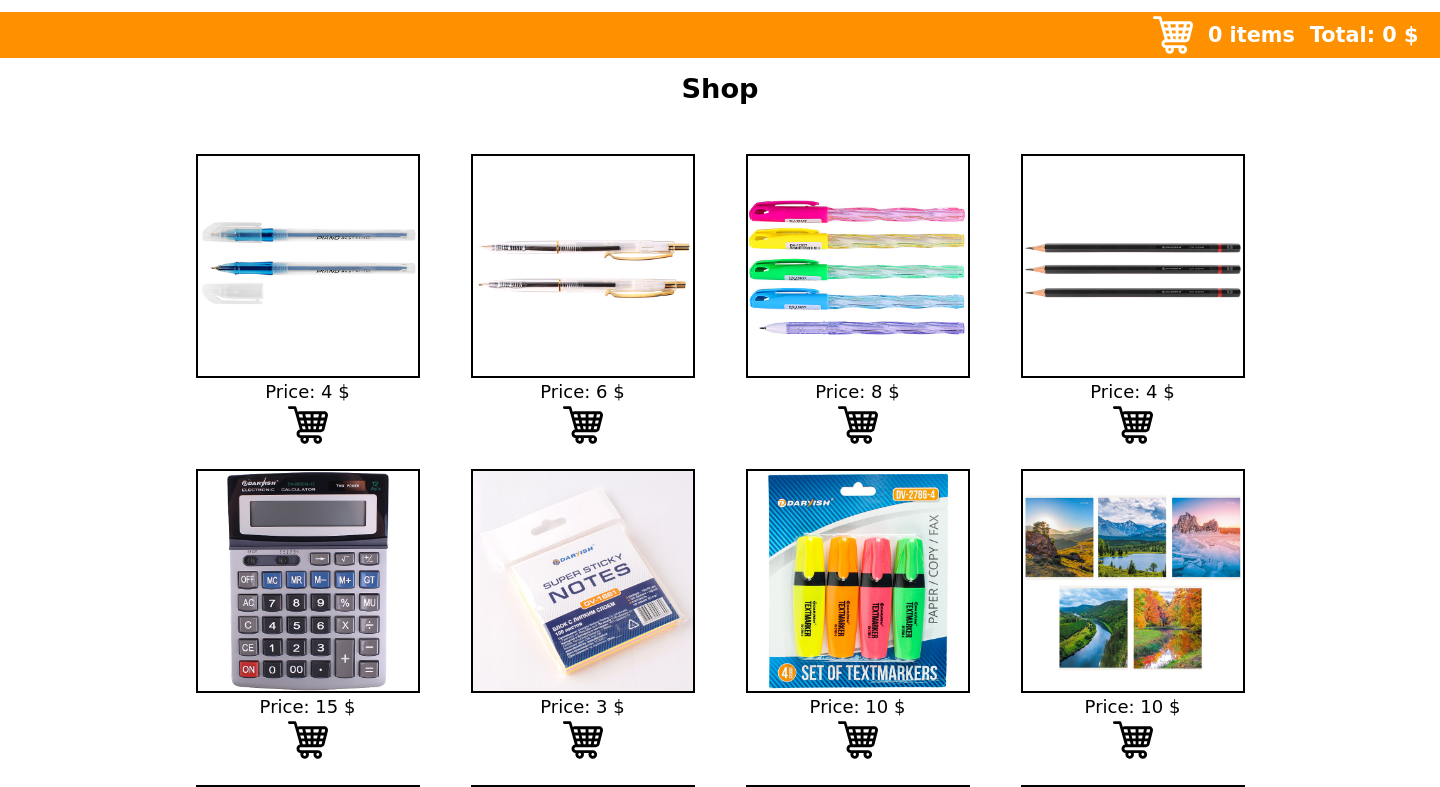
Test: Shop component › plus button works
This screenshot has width=1440, height=787.
What coordinates should you click on to do the following:
click the picture with test id "cart-0"
I would click on:
 (308, 425)
Its box is [288, 405, 328, 445].
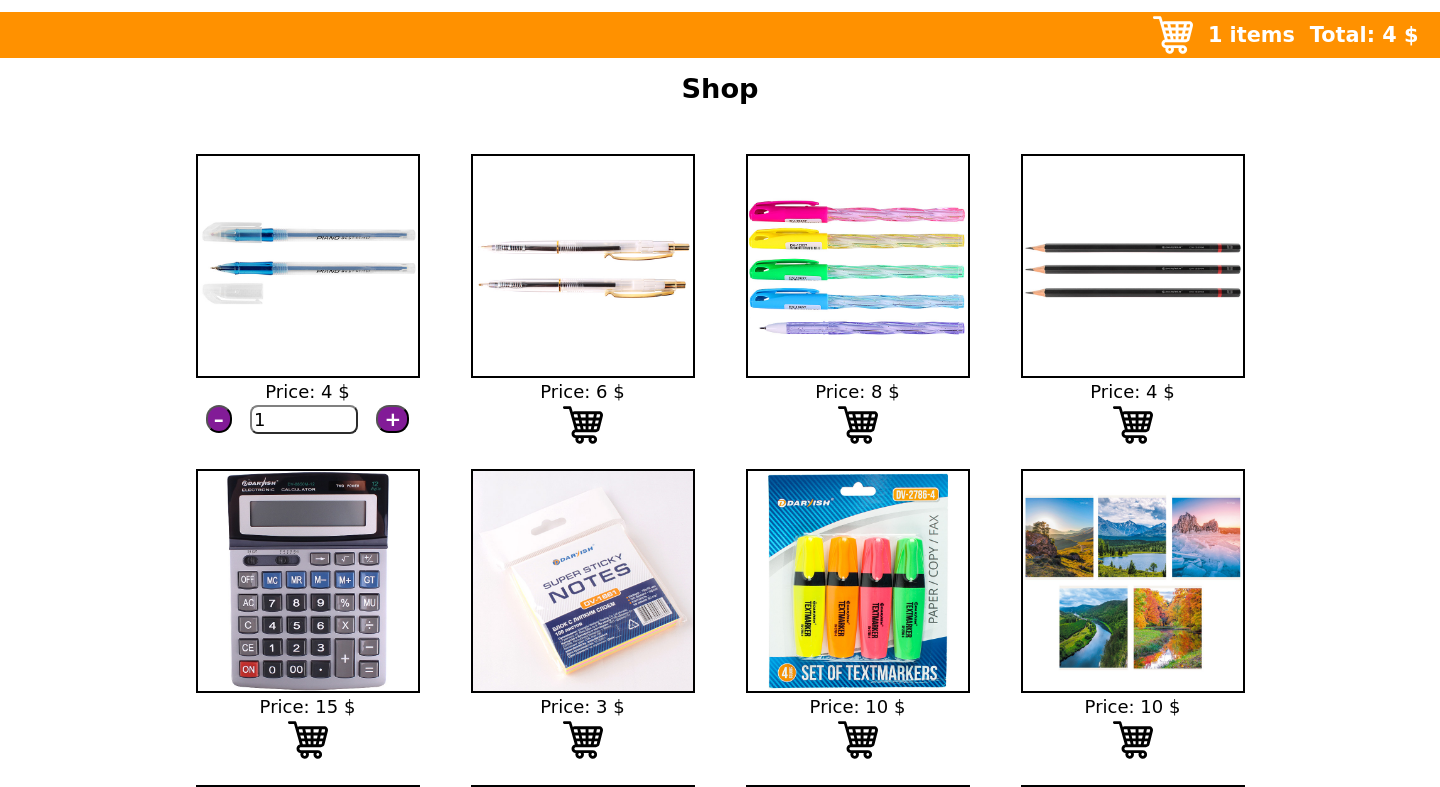
What coordinates should you click on to do the following:
click the button "+"
I would click on:
 (393, 419)
Its box is [376, 405, 409, 433].
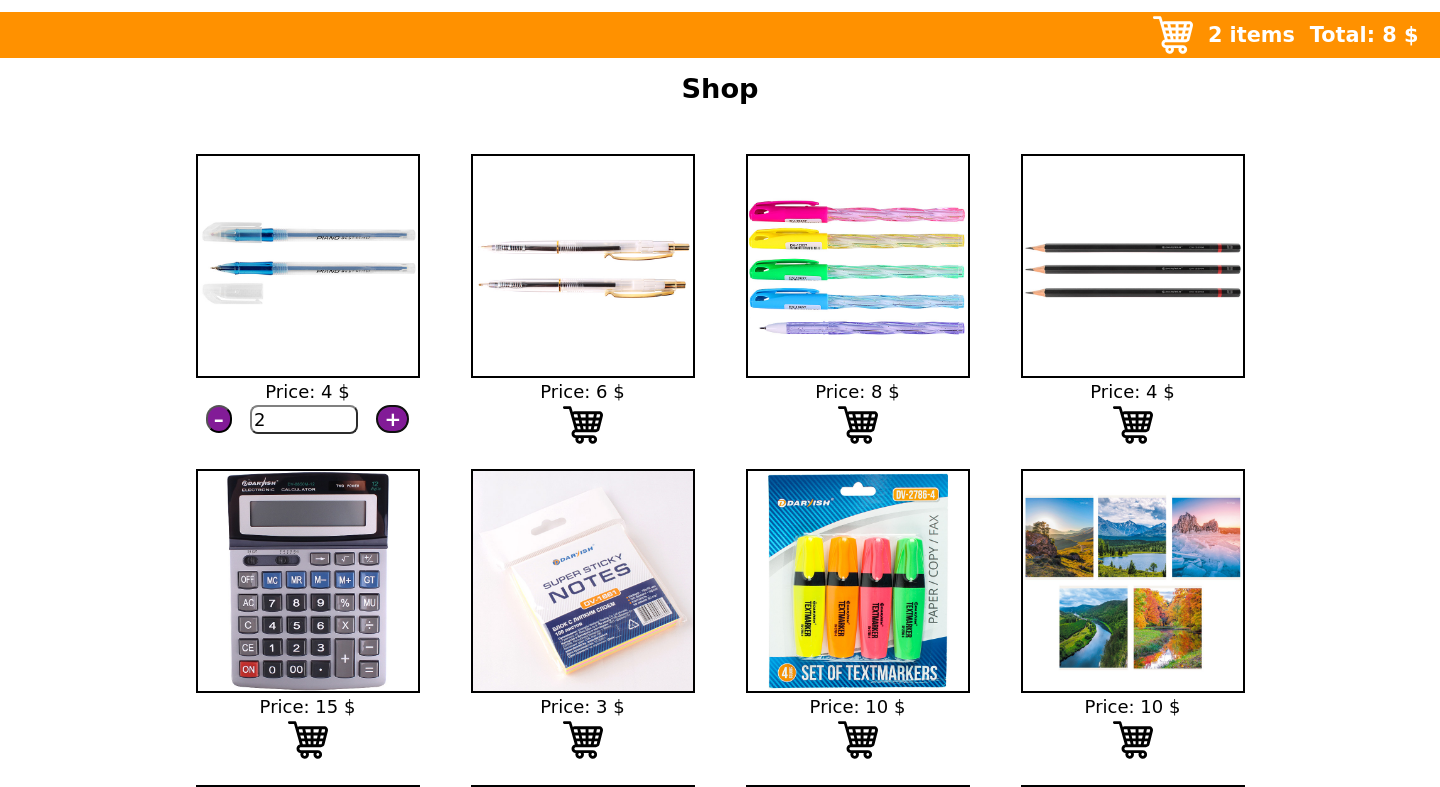
Check: the field with test id "input-0" holds "2", box [250, 405, 358, 434]
